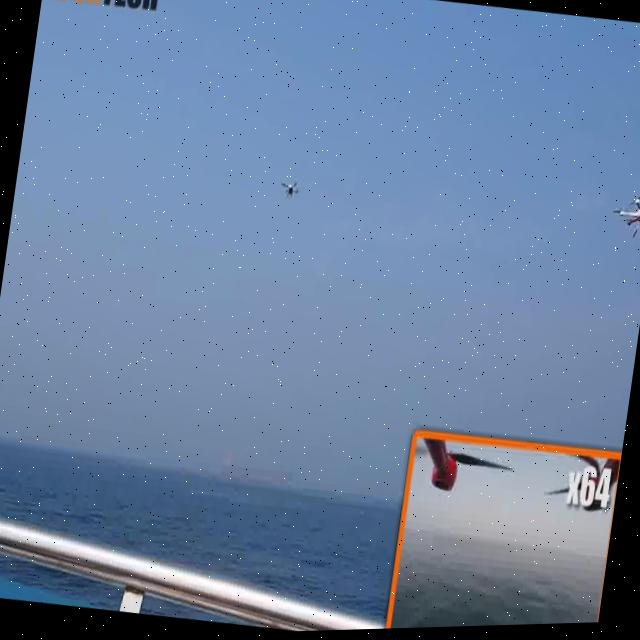drone: (270, 167, 314, 221)
